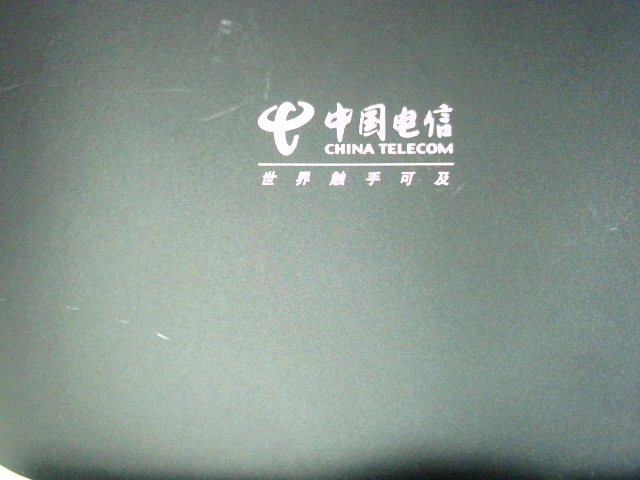AB_ChinaTelecom: (248, 101, 465, 188)
